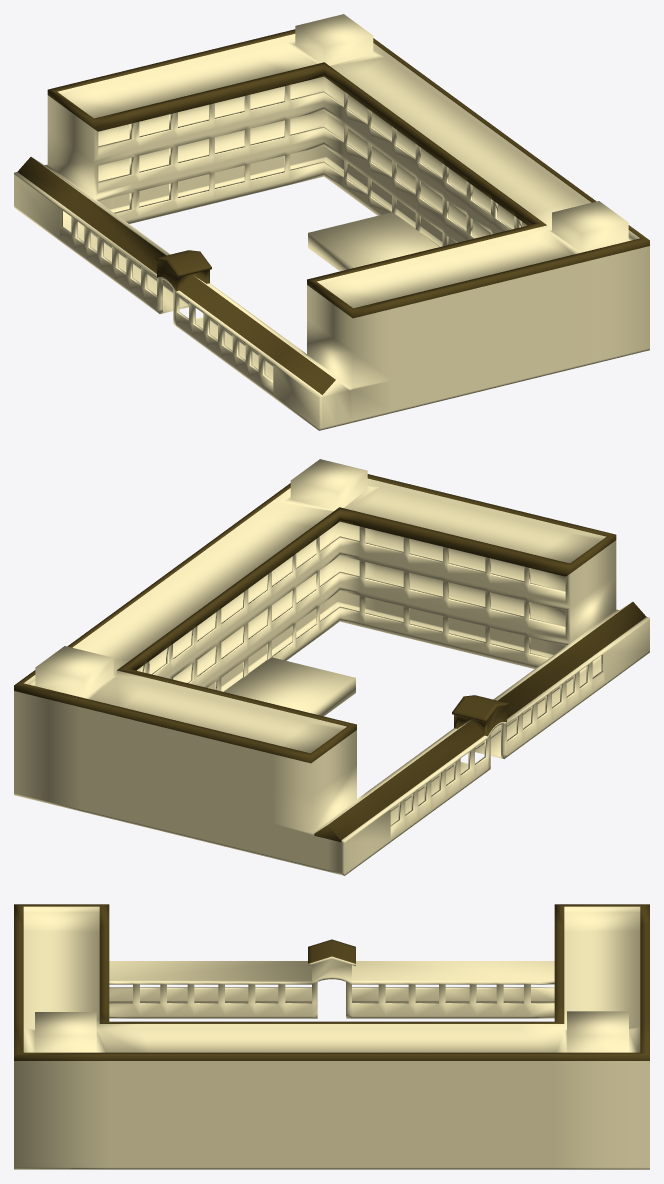
Rendered from truong hoc.fbx.
3 views of the same model, one above another, from view 1: azimuth 30°, elevation 25°; view 2: azimuth 150°, elevation 25°; view 3: azimuth 270°, elevation 25° (orthographic). The views are drawn at different scales.
Visible parts, largest first — view 1: Truong hoc; view 2: Truong hoc; view 3: Truong hoc.
Boxes of the visible parts, x1=… form: Truong hoc: x1=14, y1=14, x2=649, y2=430; Truong hoc: x1=14, y1=459, x2=649, y2=875; Truong hoc: x1=14, y1=904, x2=649, y2=1169.
Bounding box in the file's own units: 719 × 255 × 1148.
